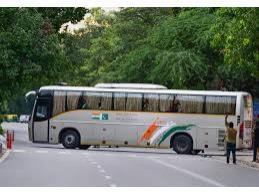bus: (28, 82, 254, 155)
